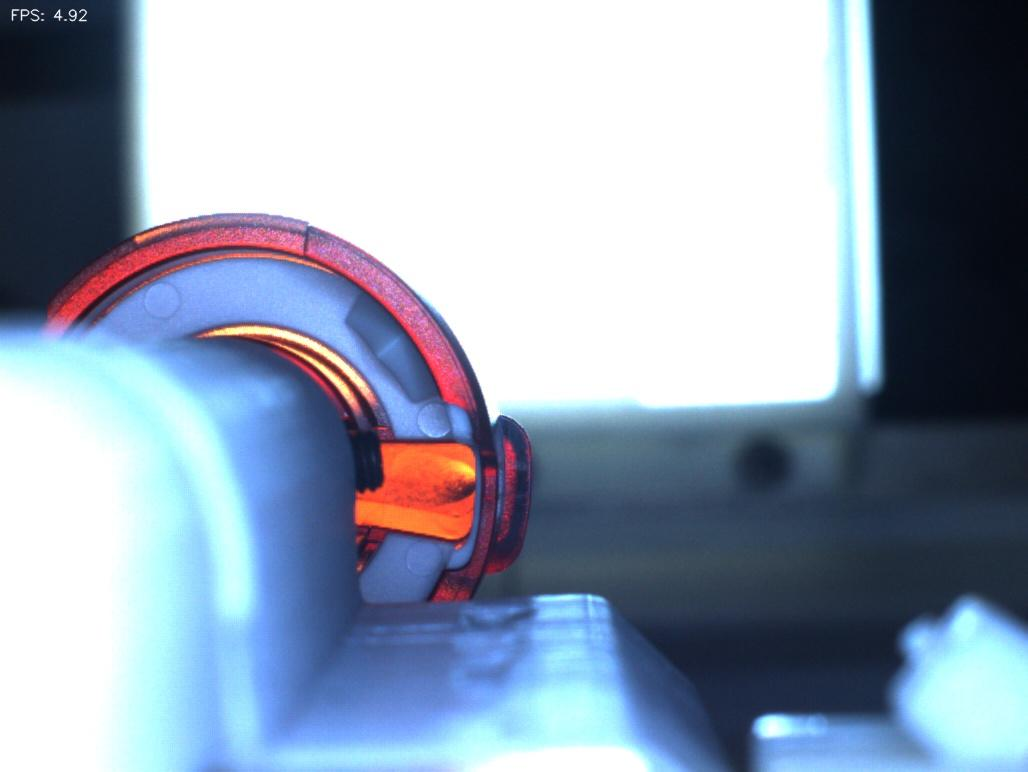Retassure: (383, 446, 489, 534)
